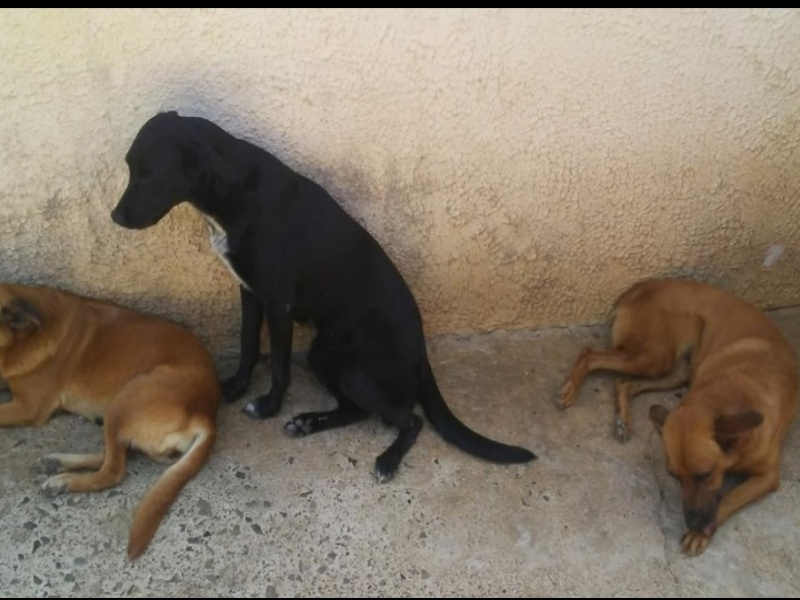dog: (112, 112, 546, 487), (558, 266, 798, 569), (1, 268, 220, 548)
